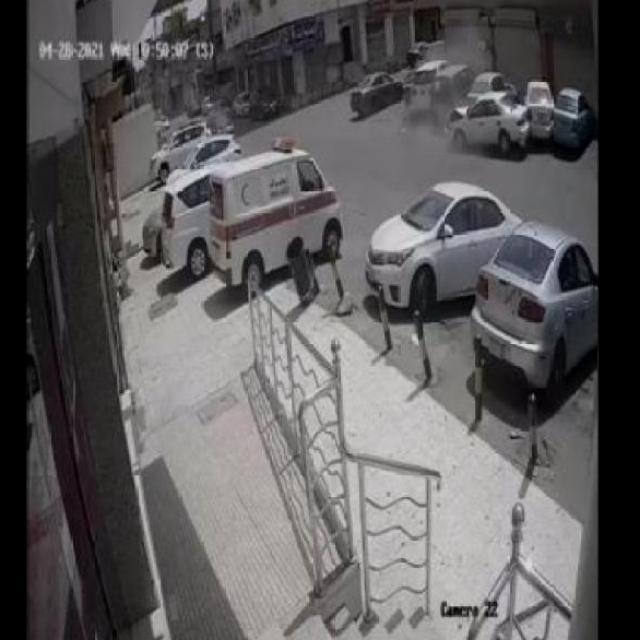accident: (445, 70, 538, 172)
